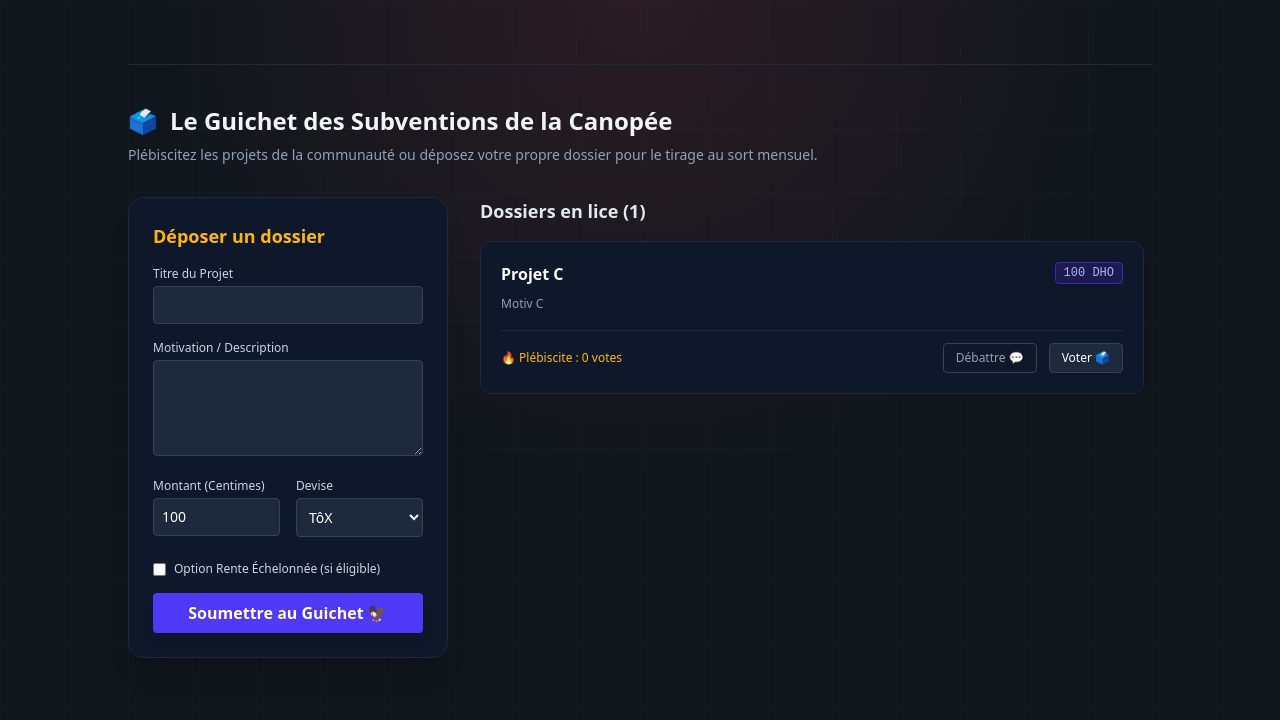
Test: UI & Logique : CanopySubsidySection (React Query & Optimistic Updates) › 🟢 doit ouvrir le module de débat (UniversalComment) au clic sur "Débattre"
Expected: the text "Composant UniversalComment injecté ici" is not shown
Click the button "Débattre 💬".
click(990, 358)  # box [943,342,1037,372]
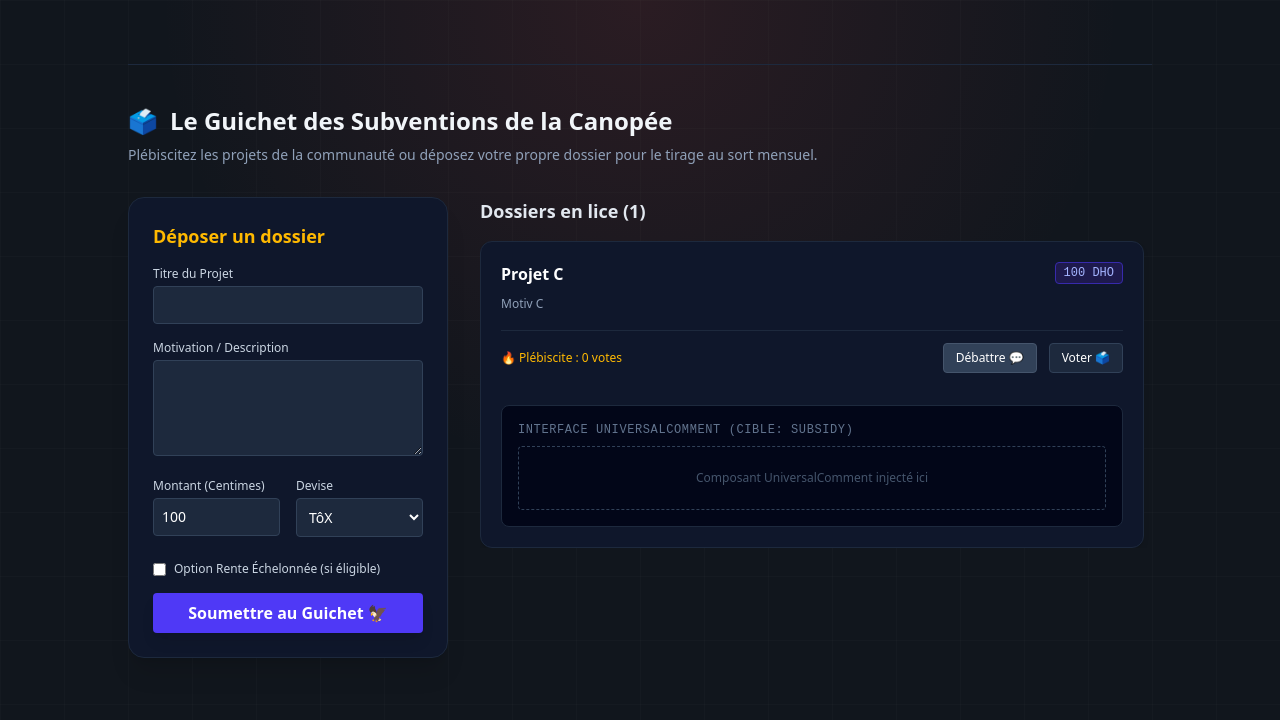
Now the text "Interface UniversalComment (Cible: SUBSIDY)" is shown, box [518,422,854,436]
